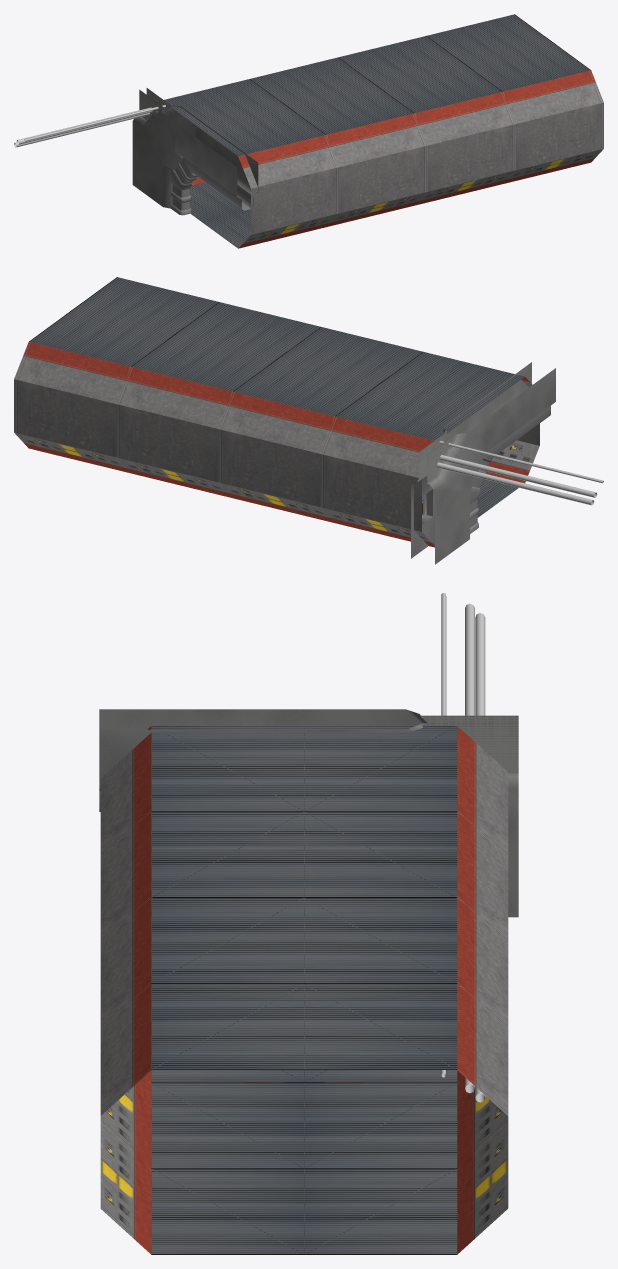
File: all.FBX
3 views of the same model, one above another, from view 1: azimuth 30°, elevation 25°; view 2: azimuth 150°, elevation 25°; view 3: azimuth 270°, elevation 25° (orthographic). The views are drawn at different scales.
Parts seen in each view (by area): view 1: Object013, Object015, Object014, Object016, Box001, Basic Module; view 2: Object013, Object015, Object016, Object014, Box001, Basic Module; view 3: Object016, Object015, Object014, Object013, Box001, Basic Module.
Part boxes in pixels (x1,y1,x2,y2): Object013: (160,79,339,248); Object015: (339,36,515,205); Object014: (250,57,427,226); Object016: (427,14,603,183); Box001: (132,88,258,215); Basic Module: (14,105,165,147); Object013: (320,351,539,547); Object015: (116,302,320,497); Object016: (14,277,218,473); Object014: (218,327,422,522); Box001: (411,362,555,564); Basic Module: (437,441,603,505); Object016: (100,984,508,1254); Object015: (100,898,508,1168); Object014: (100,811,508,1082); Object013: (100,725,508,857); Box001: (99,709,518,917); Basic Module: (441,593,485,1102).
Bounding box in the file's own units: 2238 × 406 × 823.
